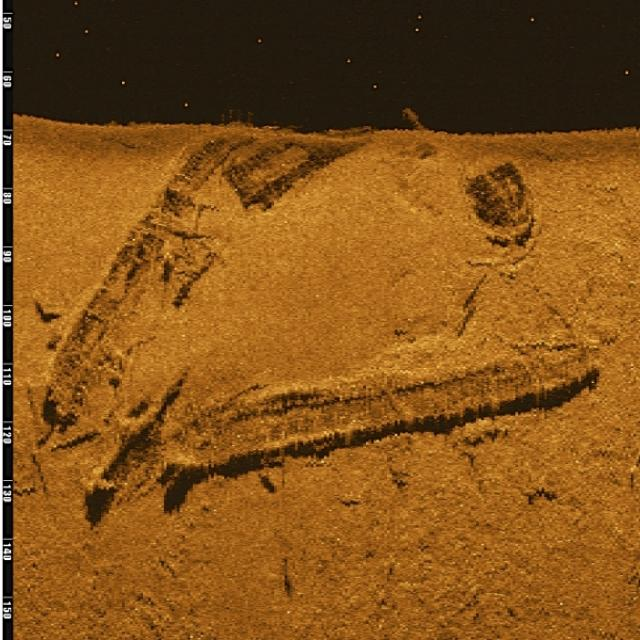ship: (40, 125, 361, 416), (160, 351, 604, 467)
